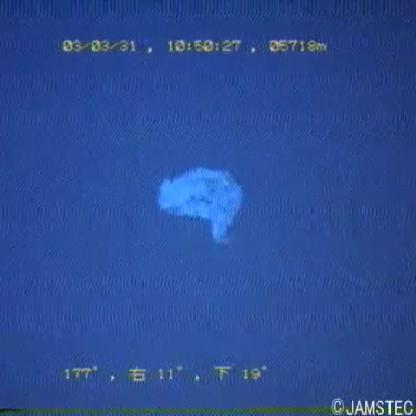Rác: (152, 156, 250, 262)
